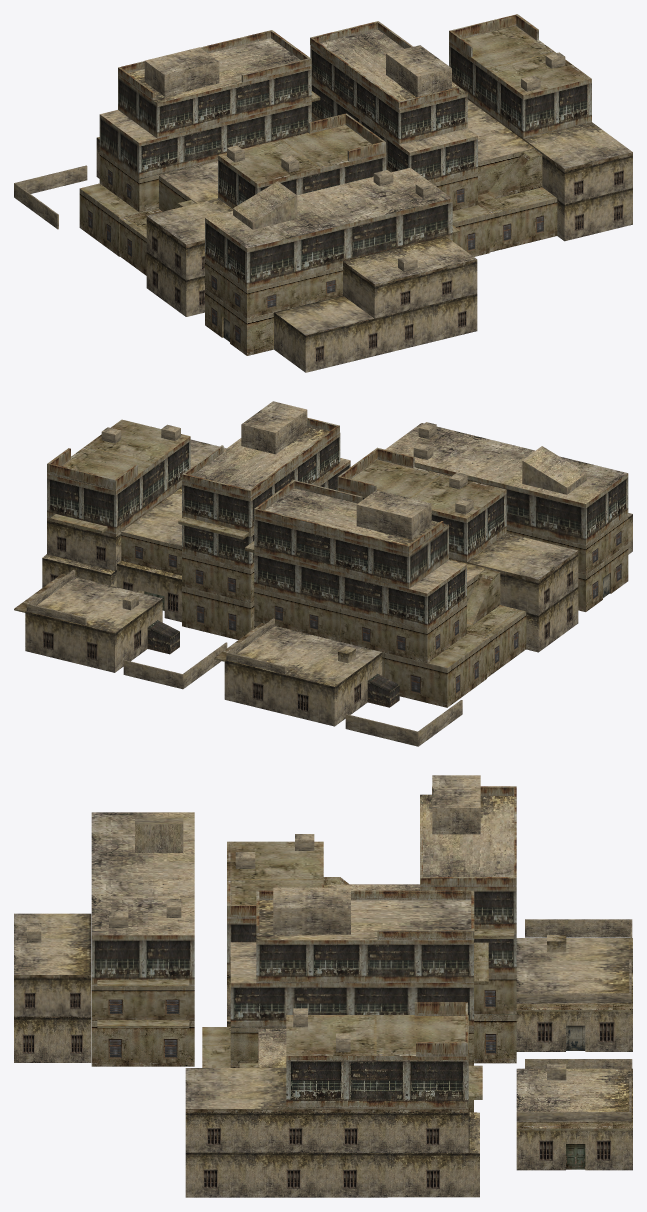
Rendered from MogBlk04.glb.
3 renders of one model, top to bottom at view 1: azimuth 30°, elevation 25°; view 2: azimuth 150°, elevation 25°; view 3: azimuth 270°, elevation 25°, orthographic. The views are drawn at different scales.
Visible parts, largest first — view 1: _MogBlk04; view 2: _MogBlk04; view 3: _MogBlk04.
Part boxes in pixels (x1,y1,x2,y2): _MogBlk04: (14, 14, 632, 372); _MogBlk04: (14, 401, 632, 746); _MogBlk04: (14, 775, 632, 1197).
Size of the model in its own units: 63.73 by 23.17 by 63.94.
2 materials, 2 textured.
